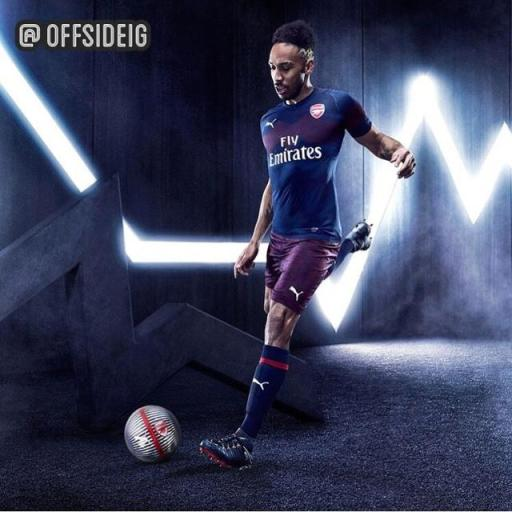Emirates: (266, 134, 324, 168)
